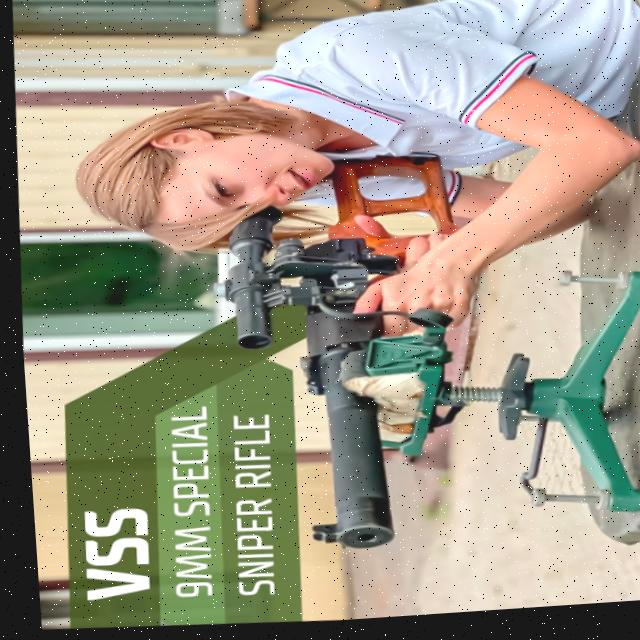firearm: (192, 148, 468, 564)
